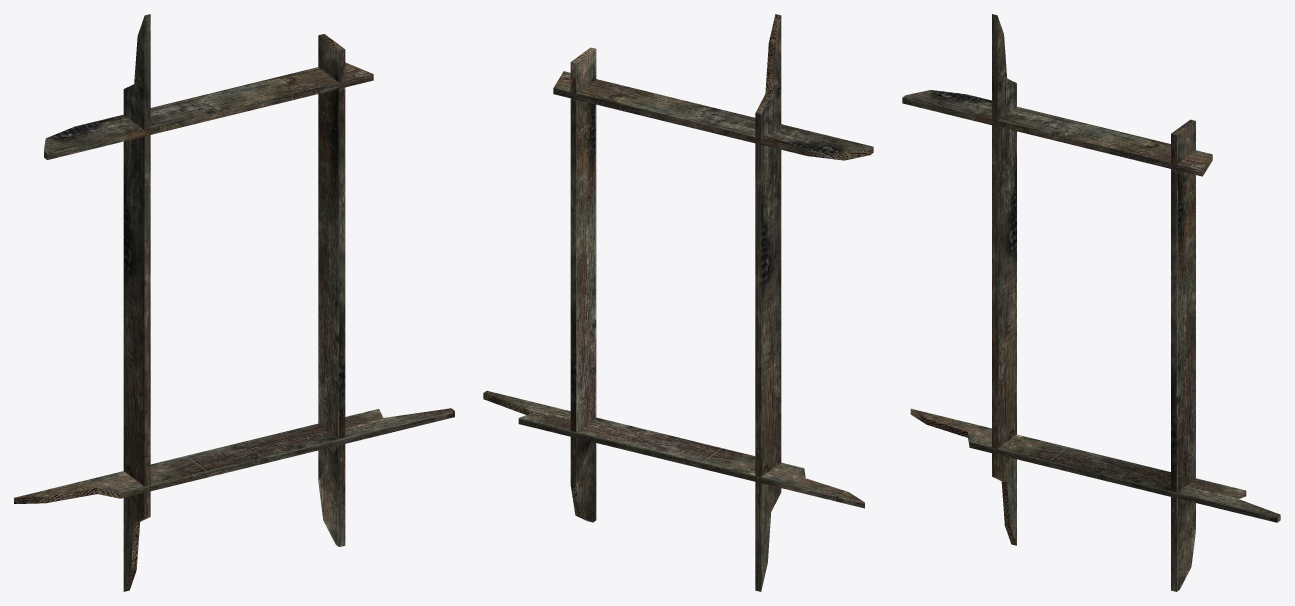
File: moscow_boards_2b.glb
3 renders of one model, left to right at view 1: azimuth 30°, elevation 25°; view 2: azimuth 150°, elevation 25°; view 3: azimuth 330°, elevation 25°, orthographic. The views are drawn at different scales.
Size of the model in its own units: 138 by 186 by 12.
2 materials, 2 textured.
